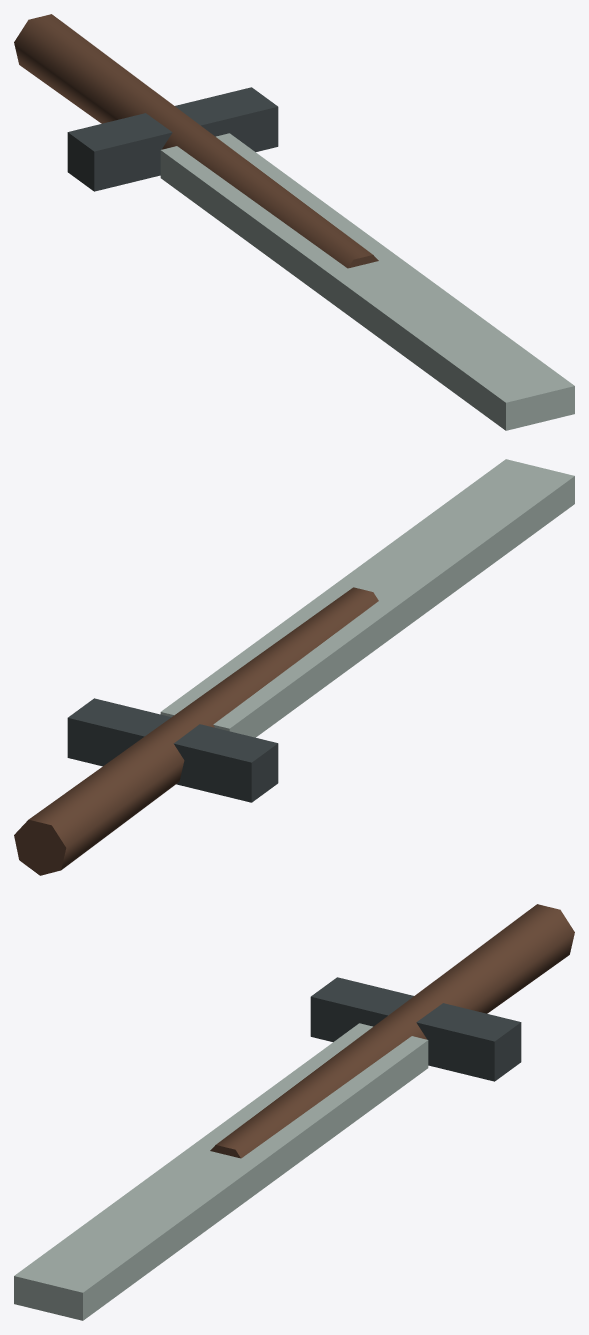
File: Tool_Sword.glb
3 views of the same model, one above another, from view 1: azimuth 30°, elevation 25°; view 2: azimuth 150°, elevation 25°; view 3: azimuth 330°, elevation 25° (orthographic).
Parts seen in each view (by area): view 1: _MeshInstance3D_4581, _MeshInstance3D_4579, _MeshInstance3D_4580; view 2: _MeshInstance3D_4581, _MeshInstance3D_4579, _MeshInstance3D_4580; view 3: _MeshInstance3D_4581, _MeshInstance3D_4579, _MeshInstance3D_4580.
Boxes of the visible parts, box(x1,y1,x2,y2) form: _MeshInstance3D_4581: box(160, 133, 574, 430); _MeshInstance3D_4579: box(14, 14, 378, 268); _MeshInstance3D_4580: box(67, 87, 278, 191); _MeshInstance3D_4581: box(160, 459, 574, 737); _MeshInstance3D_4579: box(14, 587, 378, 875); _MeshInstance3D_4580: box(67, 698, 278, 802); _MeshInstance3D_4581: box(14, 1023, 428, 1320); _MeshInstance3D_4579: box(210, 904, 574, 1158); _MeshInstance3D_4580: box(310, 977, 521, 1081).
Bounding box in the file's own units: 0.24 × 0.0665 × 1.13.
